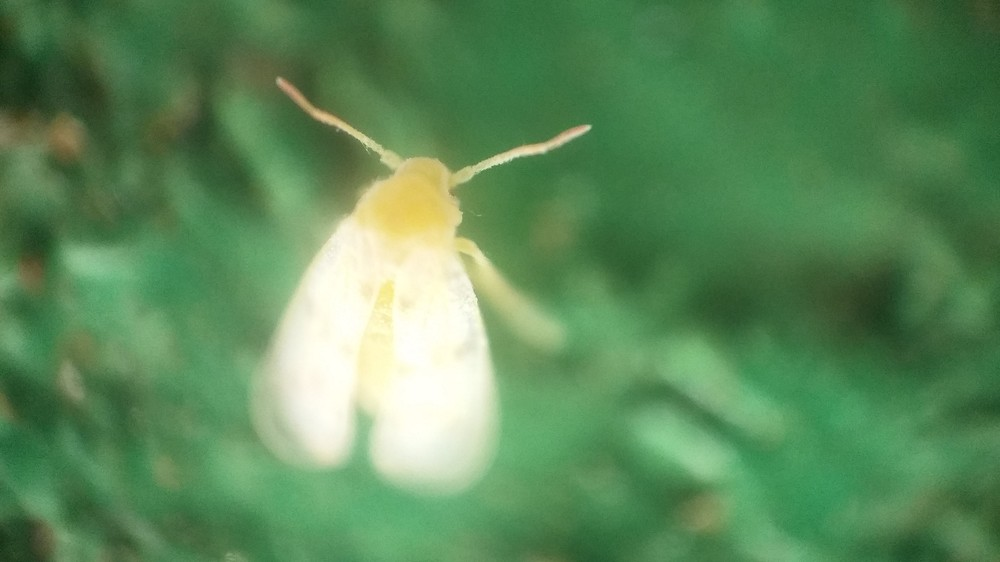Mosca Blanca: (234, 71, 628, 515)
